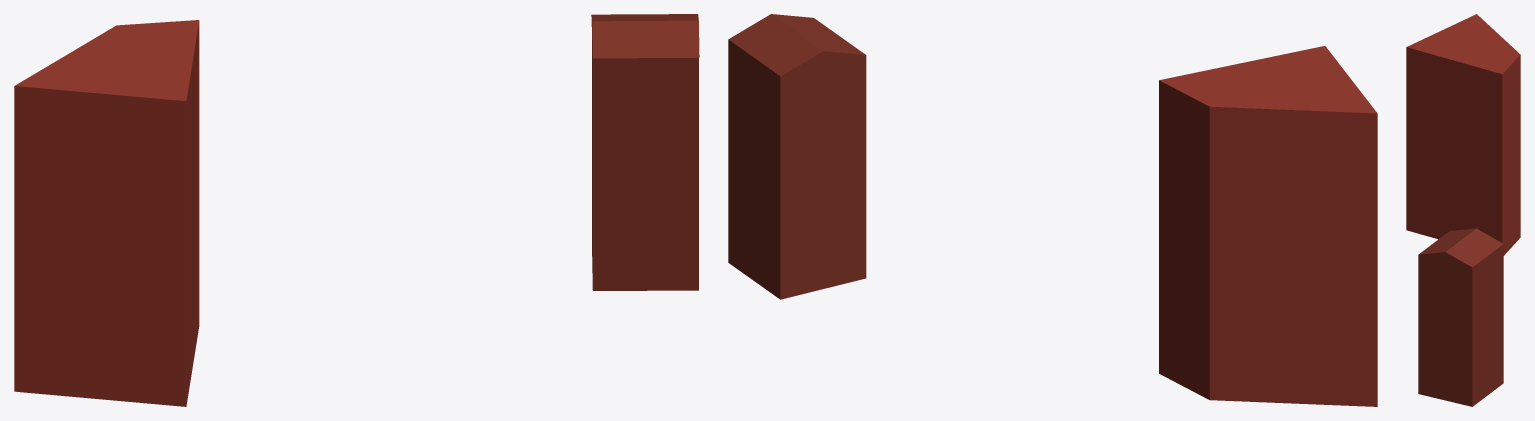
Rendered from near-15-27351-14873.af2cd67f.glb.
3 views of the same model, side by side, from view 1: azimuth 30°, elevation 25°; view 2: azimuth 150°, elevation 25°; view 3: azimuth 270°, elevation 25° (orthographic). The views are drawn at different scales.
Bounding box in the file's own units: 48.15 × 21.93 × 11.67.
